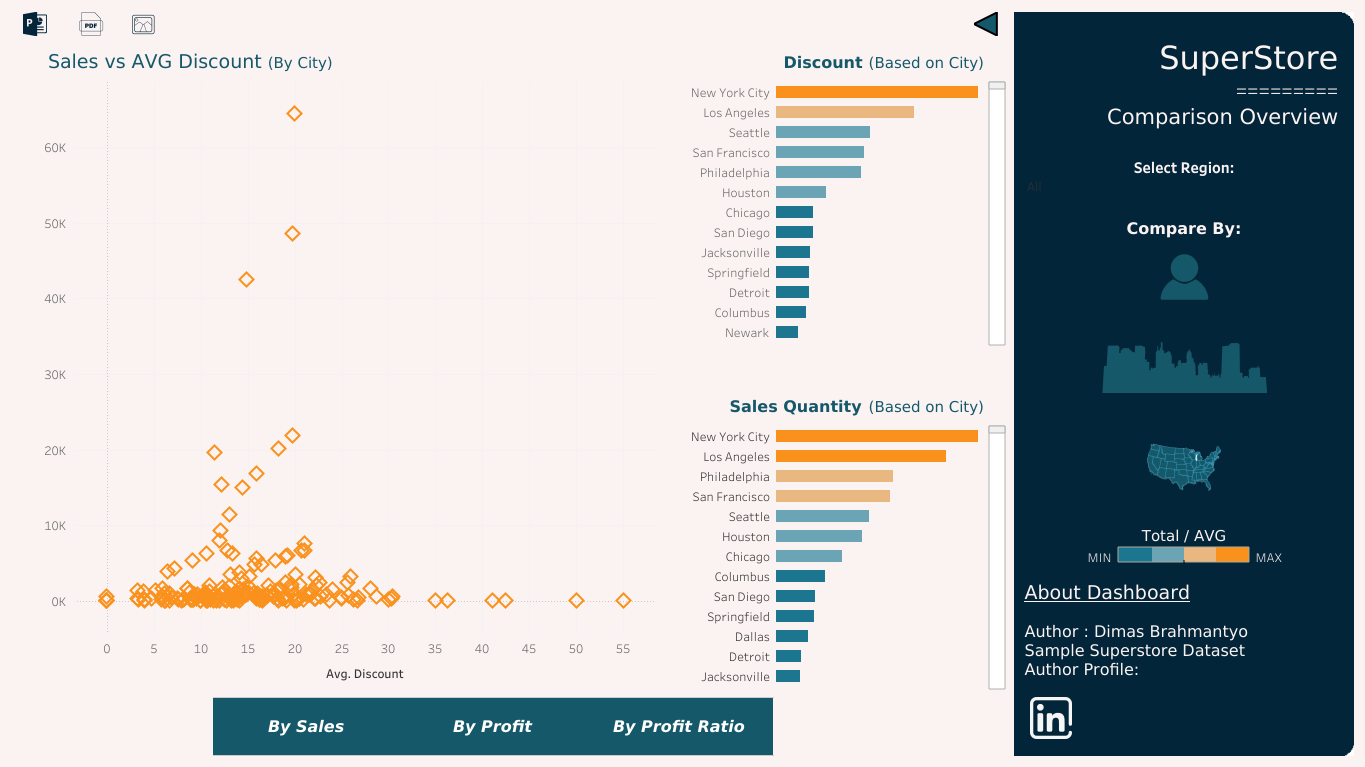

This screenshot's page, from the dashboard's own definition file:
{"tool":"tableau","page":{"name":"Dashboard 2 - Comparison Overview (By City)","canvas":[1366,768],"ordinal":1},"visuals":[{"type":"dashboard-object","box":[8,8,54,32]},{"type":"dashboard-object","box":[62,8,60,32]},{"type":"dashboard-object","box":[122,8,44,32]},{"type":"worksheet","title":"Go Back","mark":"Shape","rows":["Calculation_132293265483010062"],"box":[962,8,48,32]},{"type":"image","param":"Image/2.png","box":[1010,8,348,752]},{"type":"text","box":[1025,21,316,125]},{"type":"worksheet","title":"Sheet 8 (2)","mark":"Shape","rows":["Calculation_132293265338007554"],"cols":["Calculation_1180506078092304394"],"box":[40,40,620,653]},{"type":"worksheet","title":"Based on City","mark":"Bar","rows":["City"],"box":[683,40,327,309]},{"type":"filter","title":"Based on City","param":"[federated.1u37z9d020ffhv1e04nla11qurtp].[a1. Select Region Set]","box":[1025,155,318,43]},{"type":"text","box":[1027,213,314,30]},{"type":"dashboard-object","box":[1028,251,313,52]},{"type":"dashboard-object","box":[1029,341,311,52]},{"type":"worksheet","title":"Quantity Based on City","mark":"Automatic","rows":["City"],"cols":["Quantity"],"box":[683,384,327,309]},{"type":"dashboard-object","box":[1031,440,306,52]},{"type":"legend","title":"Quantity Based on City","param":"[federated.1u37z9d020ffhv1e04nla11qurtp].[sum:Quantity:qk]","box":[1114,523,140,44]},{"type":"text","box":[1085,546,29,21]},{"type":"text","box":[1253,546,37,22]},{"type":"text","box":[1022,577,272,106]},{"type":"worksheet","title":"LinkedIn","mark":"Shape","rows":["Calculation_1125055507973922816"],"box":[1022,691,57,53]},{"type":"worksheet","title":"Field Button (Dashboard 2)","mark":"Shape","box":[209,693,569,67]}]}

Visuals, with their boxes on the page's 1366x768 design canvas (x1, y1, x2, y2). These are canvas units, not pixel positions in the 1365x767 screenshot, which may show the page scaled, cropped or inside an application window:
dashboard-object: <bbox>8, 8, 62, 40</bbox>
dashboard-object: <bbox>62, 8, 122, 40</bbox>
dashboard-object: <bbox>122, 8, 166, 40</bbox>
"Go Back" worksheet (Shape marks): <bbox>962, 8, 1010, 40</bbox>
image: <bbox>1010, 8, 1358, 760</bbox>
text: <bbox>1025, 21, 1341, 146</bbox>
"Sheet 8 (2)" worksheet (Shape marks): <bbox>40, 40, 660, 693</bbox>
"Based on City" worksheet (Bar marks): <bbox>683, 40, 1010, 349</bbox>
"Based on City" filter: <bbox>1025, 155, 1343, 198</bbox>
text: <bbox>1027, 213, 1341, 243</bbox>
dashboard-object: <bbox>1028, 251, 1341, 303</bbox>
dashboard-object: <bbox>1029, 341, 1340, 393</bbox>
"Quantity Based on City" worksheet: <bbox>683, 384, 1010, 693</bbox>
dashboard-object: <bbox>1031, 440, 1337, 492</bbox>
"Quantity Based on City" legend: <bbox>1114, 523, 1254, 567</bbox>
text: <bbox>1085, 546, 1114, 567</bbox>
text: <bbox>1253, 546, 1290, 568</bbox>
text: <bbox>1022, 577, 1294, 683</bbox>
"LinkedIn" worksheet (Shape marks): <bbox>1022, 691, 1079, 744</bbox>
"Field Button (Dashboard 2)" worksheet (Shape marks): <bbox>209, 693, 778, 760</bbox>
